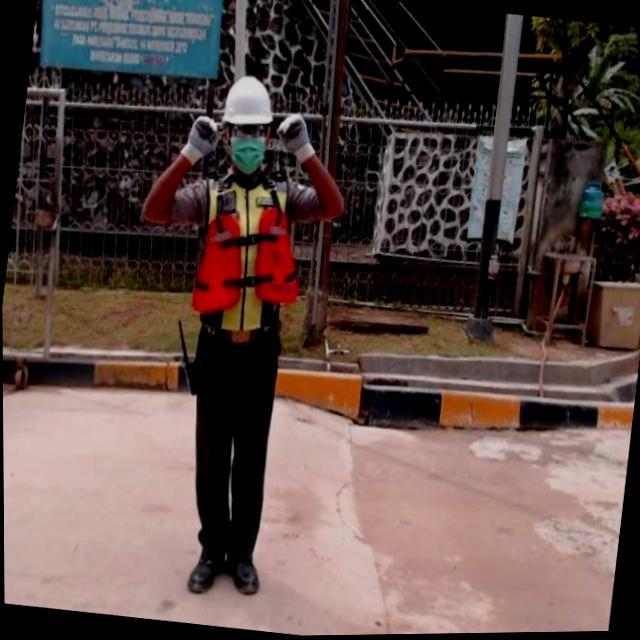goggles_on: (224, 122, 272, 142)
